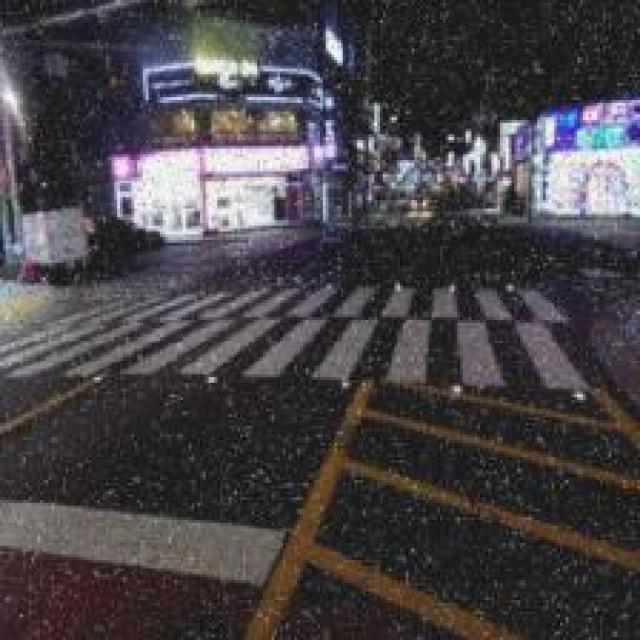crosswalk: (1, 277, 633, 409)
